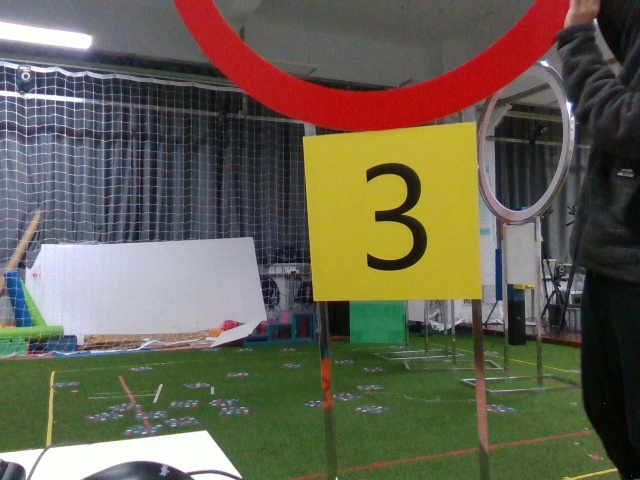target: (312, 133, 479, 294)
